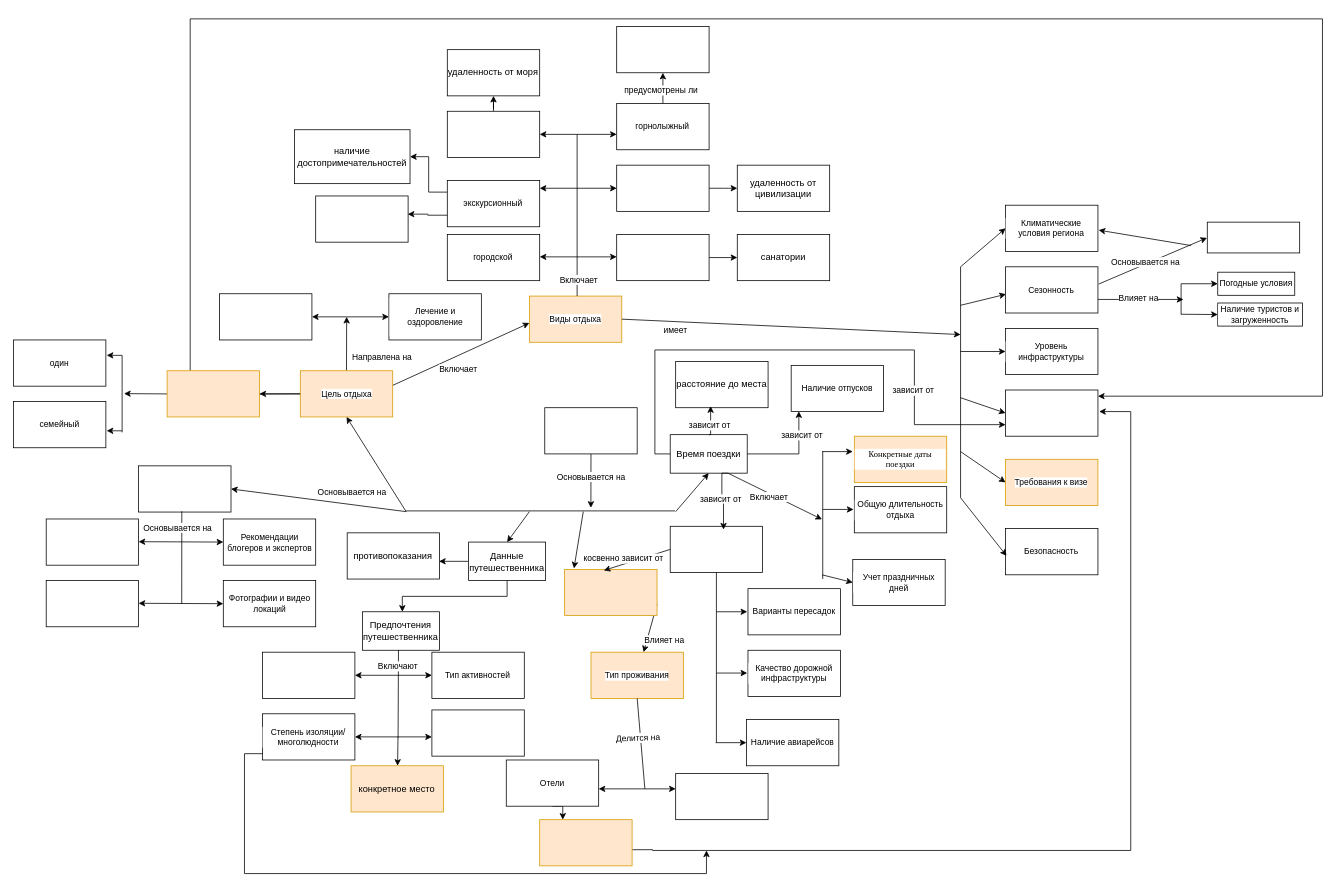
The diagram is 1342 pixels wide and 893 high, and some of its shapes have lost their labels. Here are the shapes that lost their labels. From the top down, the box of each, then its label:
(616, 26, 709, 73): зоны для различных видов спорта
(447, 110, 540, 157): пляжный
(616, 164, 709, 211): природный
(315, 195, 408, 242): длительность экскурсий
(1207, 221, 1300, 253): Туристические циклы
(616, 234, 709, 281): оздоровительный
(219, 293, 312, 340): Расслабление и отдых
(166, 370, 259, 417): кол-во участников поездки
(1005, 389, 1098, 436): Стоимость
(544, 407, 637, 454): Выбор места отдыха
(138, 465, 231, 512): Источники данных
(45, 518, 139, 565): Отзывы предыдущих туристов
(669, 526, 763, 572): Доступность транспорта
(45, 580, 139, 627): Рейтинги отелей и курортов
(564, 569, 657, 616): Бюджет
(262, 651, 355, 698): Уровень комфорта
(431, 709, 524, 756): Культурные и языковые аспекты
(675, 773, 768, 820): Палатки
(539, 819, 632, 866): пакет
